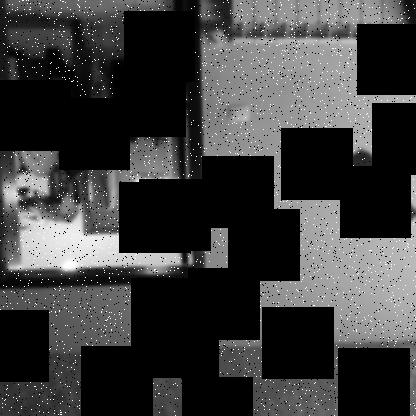Porte: (0, 0, 207, 290)
